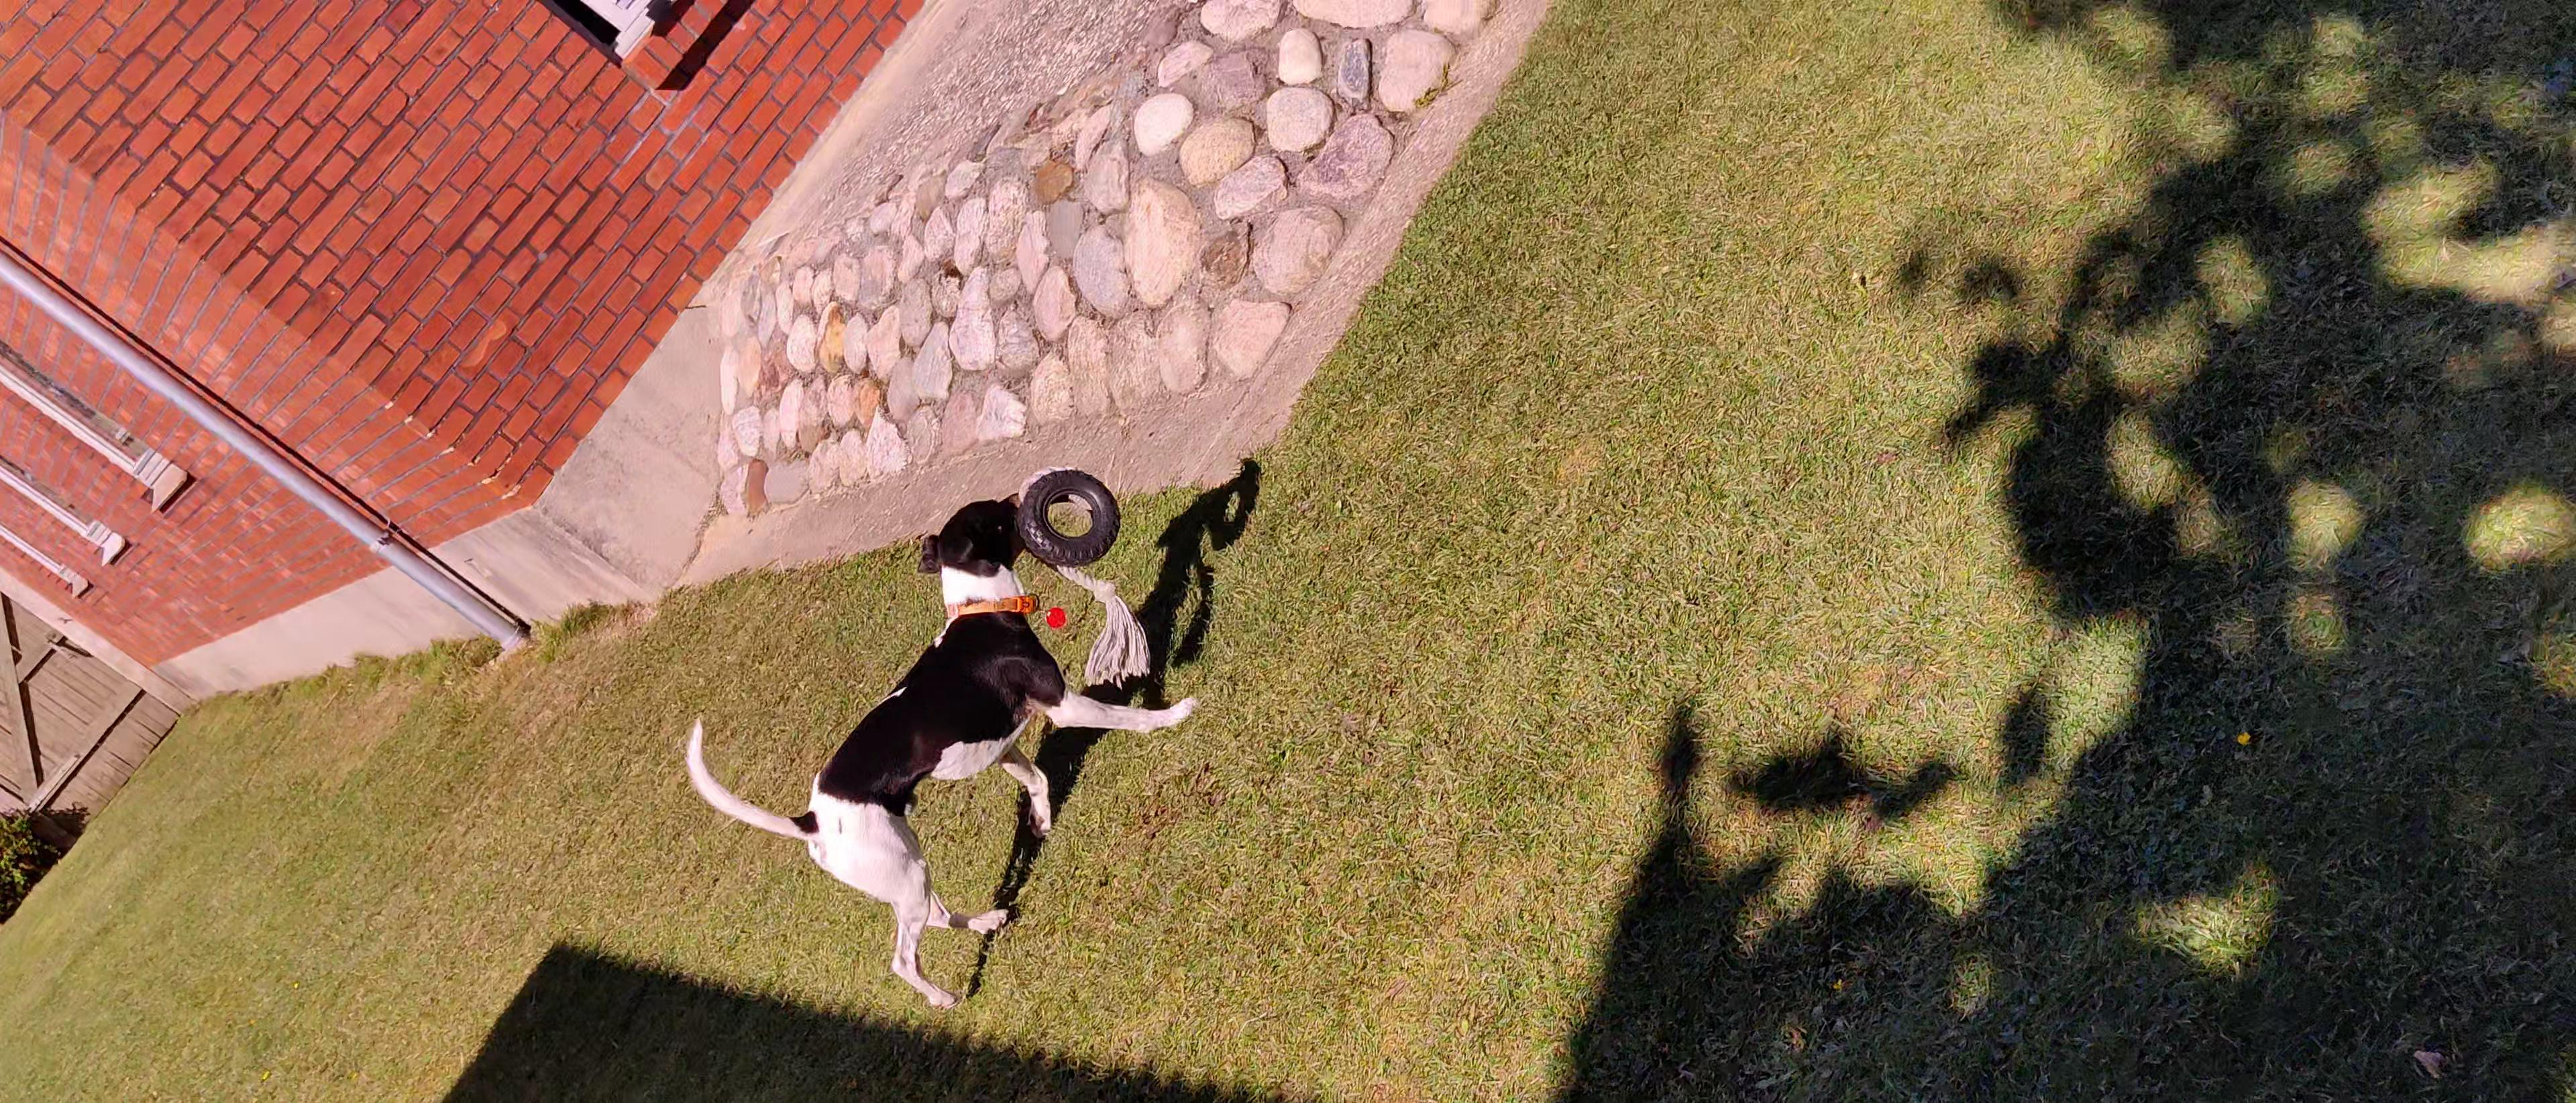Dog: (682, 483, 1207, 1008)
